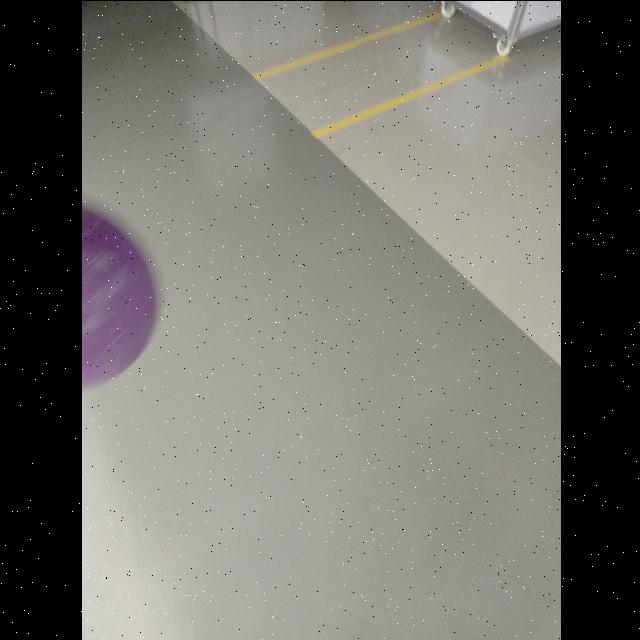P: (80, 200, 158, 390)
